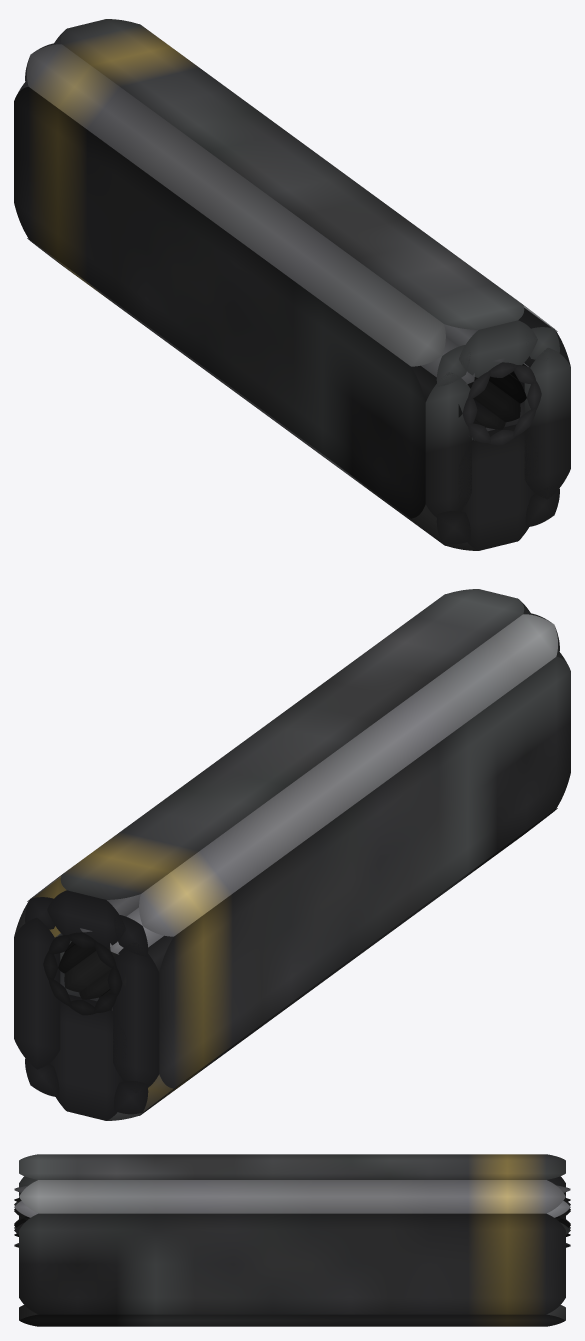
The model's file is udp_9_muzzle_silencer.fbx.
3 views of the same model, one above another, from view 1: azimuth 30°, elevation 25°; view 2: azimuth 150°, elevation 25°; view 3: azimuth 270°, elevation 25° (orthographic). The views are drawn at different scales.
Visible parts, largest first — view 1: cube_6, cube, cube_2, cube_7, cube_1, cube_4, octagon, cube_5, octagon_7, octagon_1, octagon_5, octagon_2 (+2 smaller); view 2: cube_6, cube, cube_2, cube_7, cube_1, cube_4, octagon, octagon_7, cube_5, octagon_1, octagon_5, octagon_2 (+2 smaller); view 3: cube_1, cube_3, cube, cube_5, octagon_6, cube_7, cube_6.
Boxes of the visible parts, left/top/right/bottom form: cube_6: left=14, top=81, right=471, bottom=522; cube: left=53, top=19, right=537, bottom=377; cube_2: left=25, top=43, right=470, bottom=386; cube_7: left=411, top=424, right=537, bottom=550; cube_1: left=518, top=308, right=570, bottom=499; cube_4: left=27, top=238, right=470, bottom=545; octagon: left=473, top=381, right=536, bottom=436; cube_5: left=472, top=439, right=559, bottom=527; octagon_7: left=489, top=364, right=541, bottom=410; octagon_1: left=472, top=399, right=515, bottom=445; octagon_5: left=411, top=365, right=477, bottom=428; octagon_2: left=421, top=337, right=490, bottom=400; cube_6: left=113, top=652, right=570, bottom=1092; cube: left=47, top=589, right=531, bottom=947; cube_2: left=114, top=613, right=559, bottom=956; cube_7: left=48, top=994, right=173, bottom=1120; cube_1: left=14, top=878, right=66, bottom=1069; cube_4: left=114, top=808, right=557, bottom=1115; octagon: left=48, top=951, right=111, bottom=1006; octagon_7: left=43, top=934, right=95, bottom=980; cube_5: left=25, top=1009, right=112, bottom=1097; octagon_1: left=68, top=969, right=112, bottom=1015; octagon_5: left=107, top=935, right=173, bottom=996; octagon_2: left=94, top=907, right=163, bottom=970; cube_1: left=19, top=1213, right=565, bottom=1314; cube_3: left=19, top=1180, right=565, bottom=1213; cube: left=19, top=1154, right=565, bottom=1179; cube_5: left=19, top=1314, right=565, bottom=1326; octagon_6: left=14, top=1201, right=570, bottom=1220; cube_7: left=19, top=1305, right=565, bottom=1320; cube_6: left=19, top=1176, right=565, bottom=1218.
Size of the model in its own units: 8.59 by 12.5 by 42.97.
Materials: 1 (1 with a texture image).
